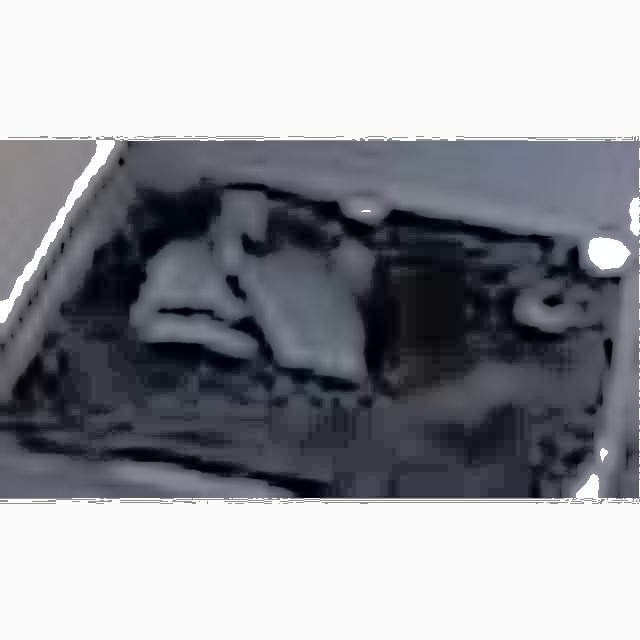pakai: (158, 191, 341, 357)
